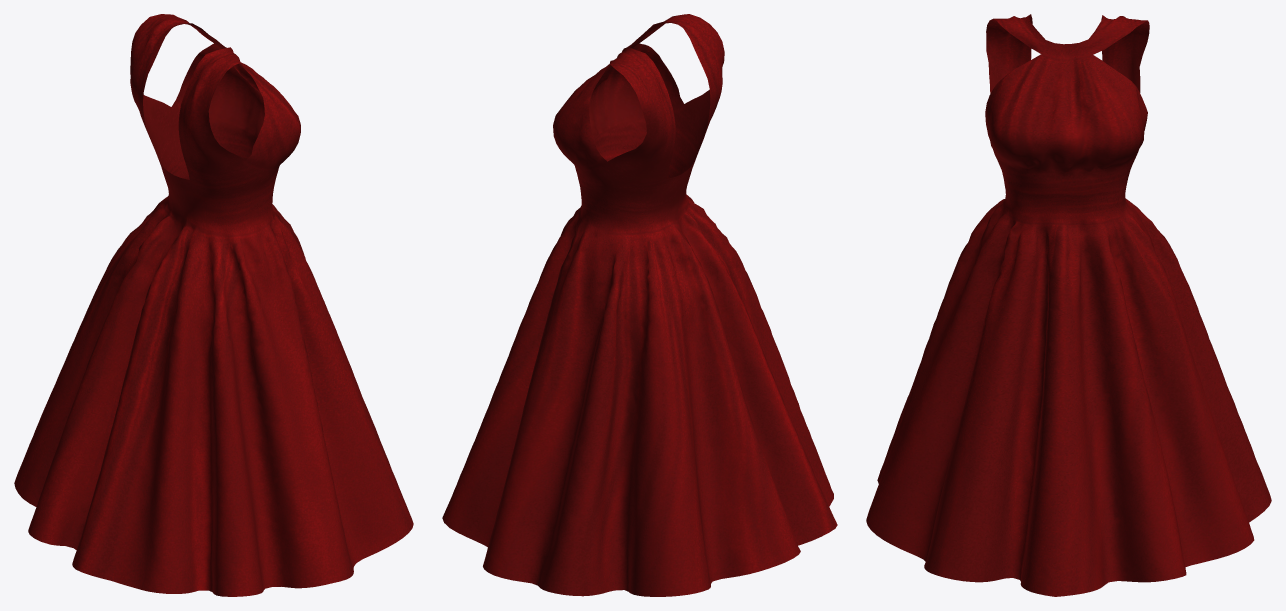
The model's file is FBX_Female Retro Halter Dress Export.fbx.
3 views of the same model, side by side, from view 1: azimuth 30°, elevation 25°; view 2: azimuth 150°, elevation 25°; view 3: azimuth 270°, elevation 25° (orthographic).
Visible parts, largest first — view 1: Dress; view 2: Dress; view 3: Dress.
Boxes of the visible parts, x1,y1,x2,y2 form: Dress: (14, 14, 413, 596); Dress: (442, 14, 837, 596); Dress: (866, 14, 1271, 596).
Bounding box in the file's own units: 79.57 × 110 × 80.96.
Materials: 1 (1 with a texture image).
